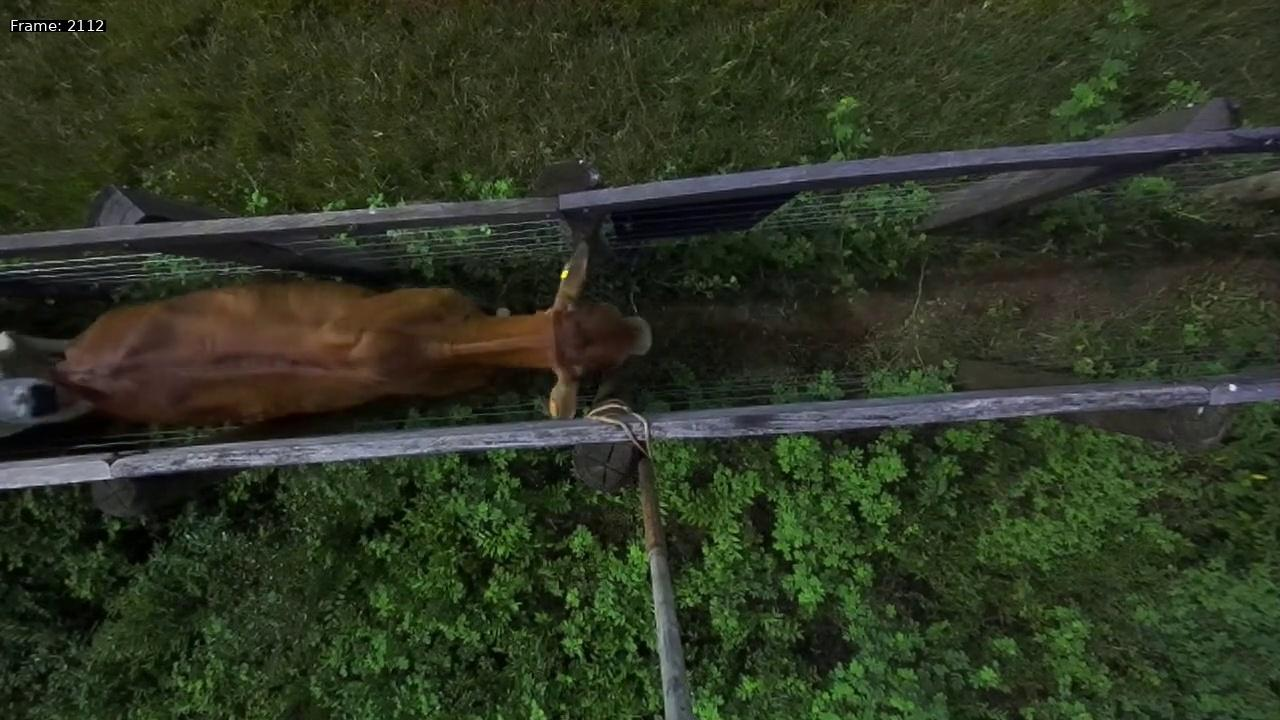cattle: (44, 220, 665, 438)
